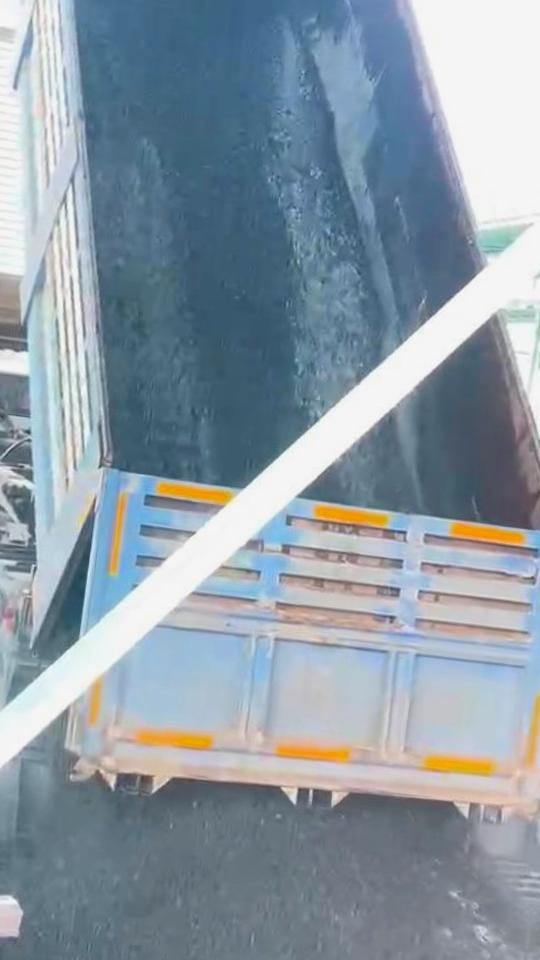gravel: (81, 0, 399, 485), (0, 783, 526, 960), (309, 416, 423, 510)
